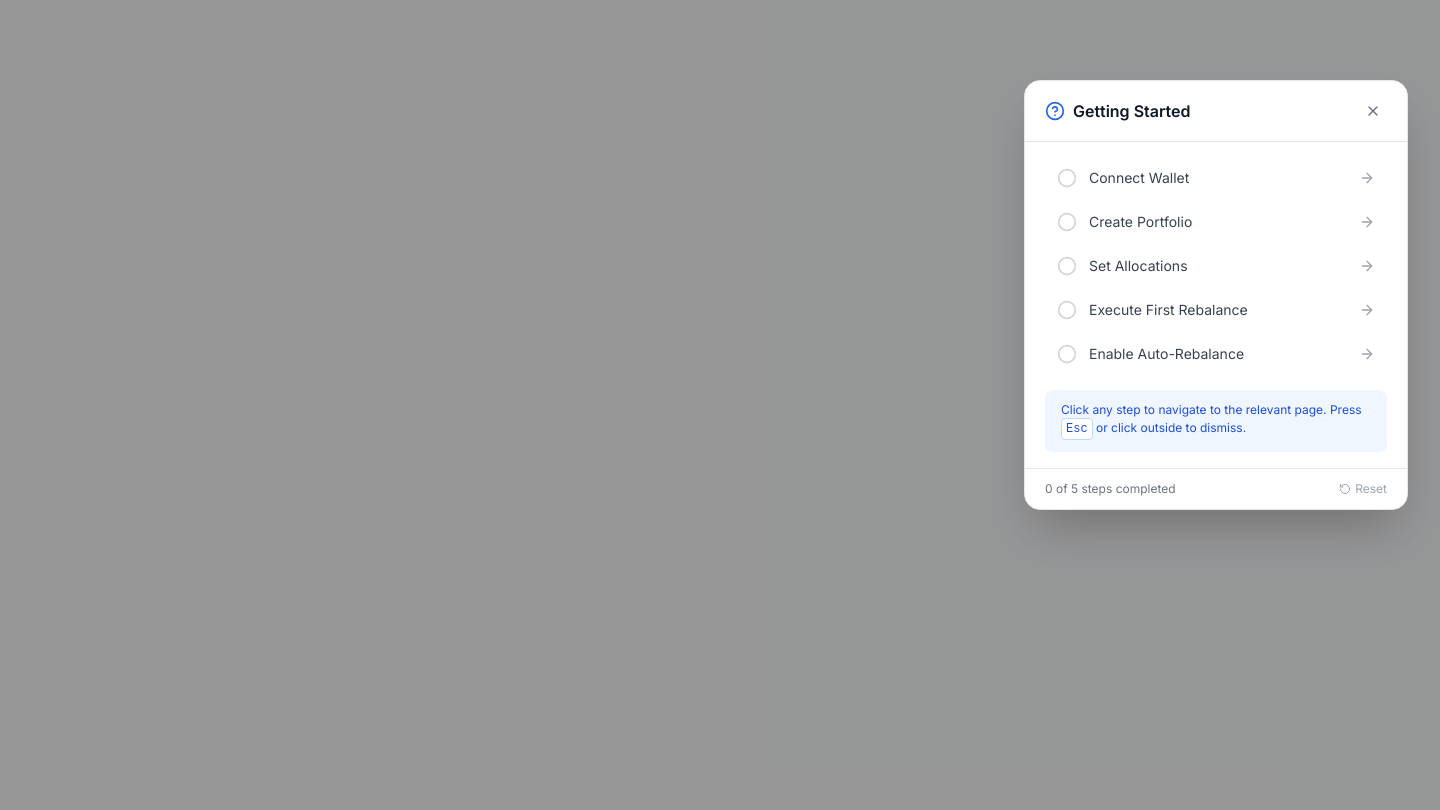
OnboardingChecklist › can be dismissed and sets localStorage
Expected: the dialog named "onboarding checklist" is shown, [1024, 80, 1408, 510]
Click the button named "Dismiss checklist" at (1373, 111), box [1359, 97, 1387, 125]
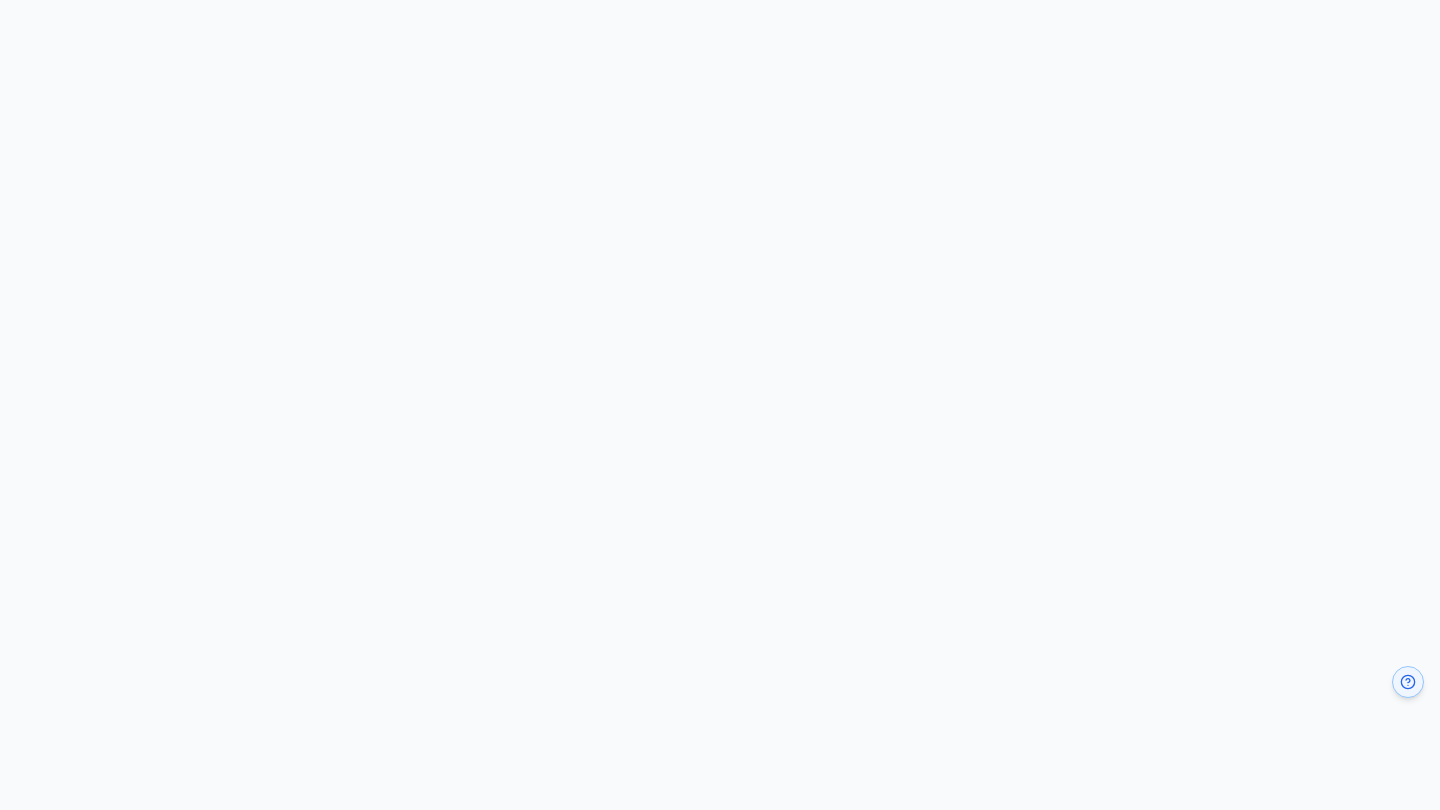
Expected: the dialog is gone
